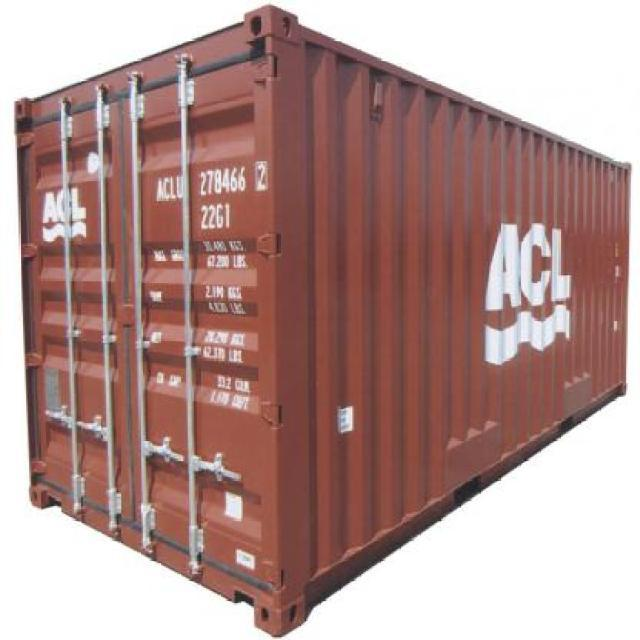ISO: (200, 202, 233, 231)
container_number: (149, 157, 273, 202)
